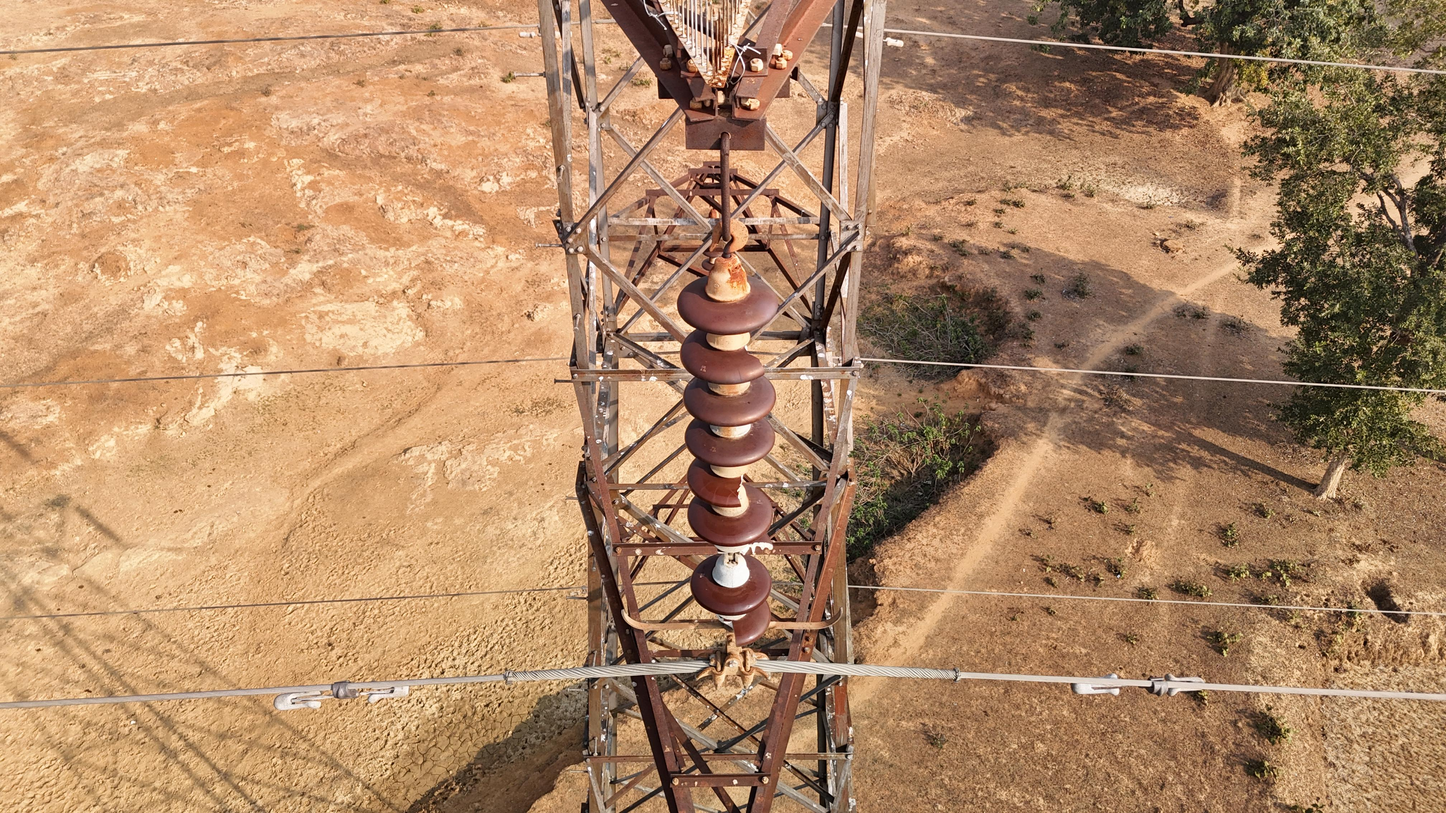broken_insulator: (678, 458, 769, 521)
